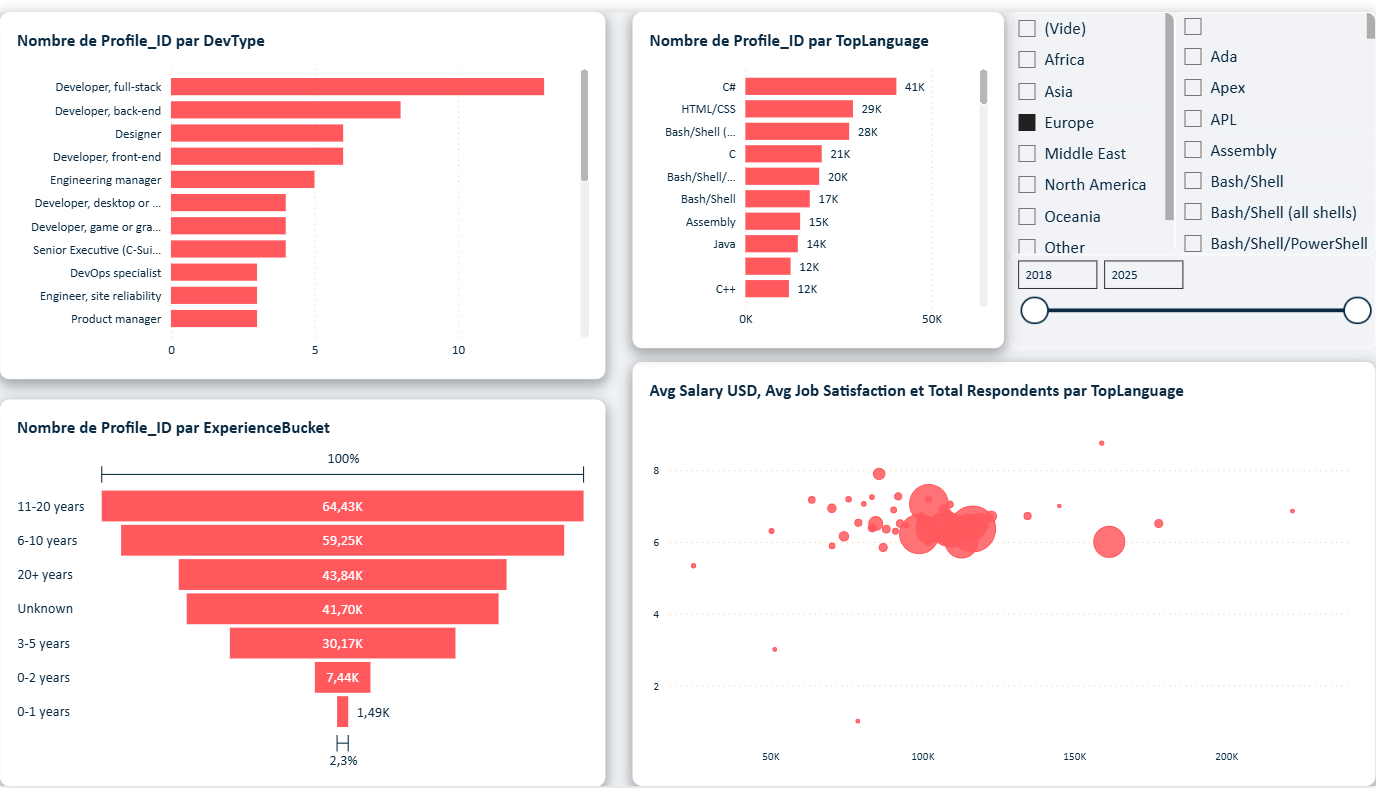

This screenshot's page, from the dashboard's own definition file:
{"tool":"powerbi","page":{"name":"system","canvas":[1280,720],"ordinal":1},"visuals":[{"type":"clusteredBarChart","fields":{"Category":["Fact_DevType.DevType"],"Y":["CountNonNull(Fact_Developer.Profile_ID)"]},"box":[0,0,562.9,341.4],"z":0},{"type":"funnel","fields":{"Category":["Dim_Profile.ExperienceBucket"],"Y":["CountNonNull(Fact_Developer.Profile_ID)"]},"box":[0,360,562.9,360],"z":1000},{"type":"scatterChart","fields":{"X":["Fact_Developer.Avg Salary USD"],"Y":["Fact_Developer.Avg Job Satisfaction"],"Category":["Fact_Language.TopLanguage"],"Size":["Fact_Developer.Total Respondents"]},"box":[588.6,325.7,691.4,394.3],"z":2000},{"type":"slicer","fields":{"Values":["Dim_Time.SurveyYear"]},"box":[938.6,225.7,341.4,87.1],"z":3000},{"type":"slicer","fields":{"Values":["Dim_Geography.Region"]},"box":[938.6,0,154.3,225.7],"z":4000},{"type":"slicer","fields":{"Values":["Fact_Language.TopLanguage"]},"box":[1092.9,0,187.1,225.7],"z":5000},{"type":"barChart","fields":{"Category":["Dim_Language.TopLanguage"],"Y":["CountNonNull(Fact_Developer.Profile_ID)"]},"box":[588.6,0,345.7,312.9],"z":6000}]}

Visuals, with their boxes in screenshot pixels (x1, y1, x2, y2), scaled from the page's 1280x720 canvas onto the 1376x788 screenshot:
clusteredBarChart - Fact_DevType.DevType x CountNonNull(Fact_Developer.Profile_ID): l=0, t=0, r=605, b=374
funnel - Dim_Profile.ExperienceBucket x CountNonNull(Fact_Developer.Profile_ID): l=0, t=394, r=605, b=787
scatterChart - Fact_Developer.Avg Salary USD x Fact_Developer.Avg Job Satisfaction: l=633, t=356, r=1375, b=787
slicer - Dim_Time.SurveyYear: l=1009, t=247, r=1375, b=342
slicer - Dim_Geography.Region: l=1009, t=0, r=1175, b=247
slicer - Fact_Language.TopLanguage: l=1175, t=0, r=1375, b=247
barChart - Dim_Language.TopLanguage x CountNonNull(Fact_Developer.Profile_ID): l=633, t=0, r=1004, b=342
